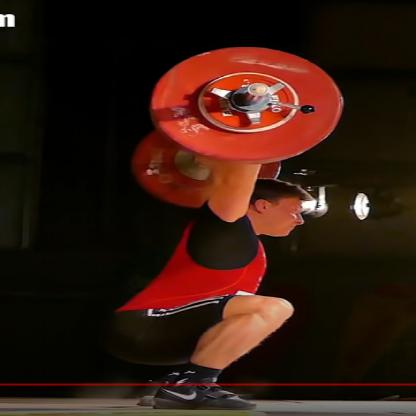Barbell: (143, 41, 352, 170)
